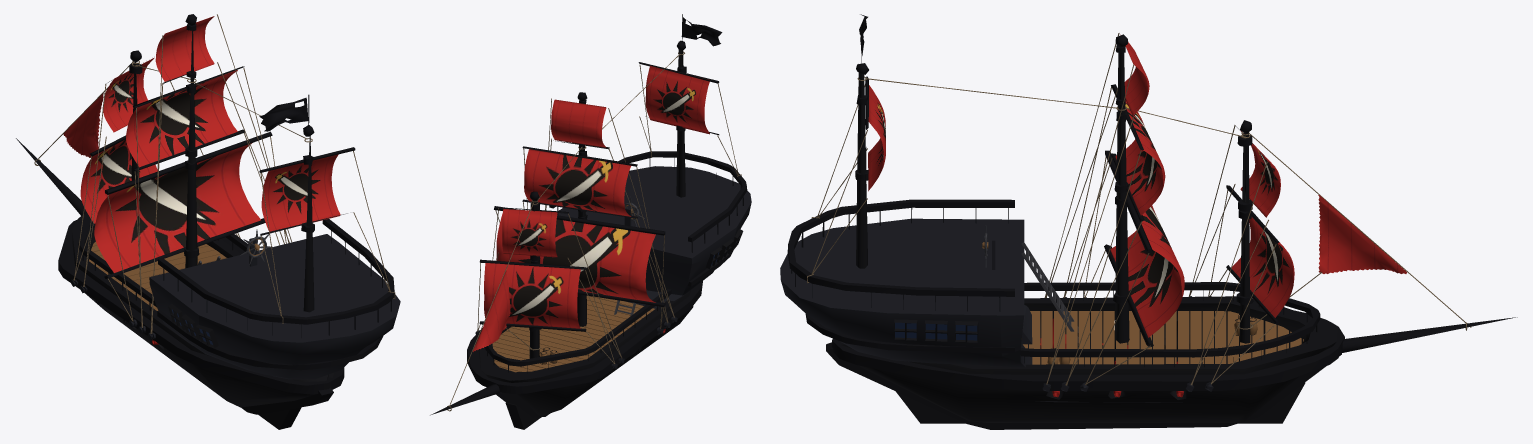
File: corsair-galleon.glb
3 renders of one model, left to right at view 1: azimuth 30°, elevation 25°; view 2: azimuth 150°, elevation 25°; view 3: azimuth 270°, elevation 25°, orthographic. The views are drawn at different scales.
Parts seen in each view (by area): view 1: Polygon_Reduction_1_Mat.2_0, Polygon_Reduction_1_Sail_0; view 2: Polygon_Reduction_1_Mat.2_0, Polygon_Reduction_1_Sail_0; view 3: Polygon_Reduction_1_Mat.2_0, Polygon_Reduction_1_Sail_0.
Part boxes in pixels (left/top/right/bottom): Polygon_Reduction_1_Mat.2_0: left=16, top=14, right=400, bottom=429; Polygon_Reduction_1_Sail_0: left=63, top=16, right=340, bottom=272; Polygon_Reduction_1_Mat.2_0: left=430, top=14, right=751, bottom=429; Polygon_Reduction_1_Sail_0: left=473, top=65, right=709, bottom=351; Polygon_Reduction_1_Mat.2_0: left=780, top=14, right=1517, bottom=429; Polygon_Reduction_1_Sail_0: left=868, top=34, right=1406, bottom=337.
Bounding box in the file's own units: 14.14 × 26.1 × 43.97.
Materials: 2 (2 with a texture image).
